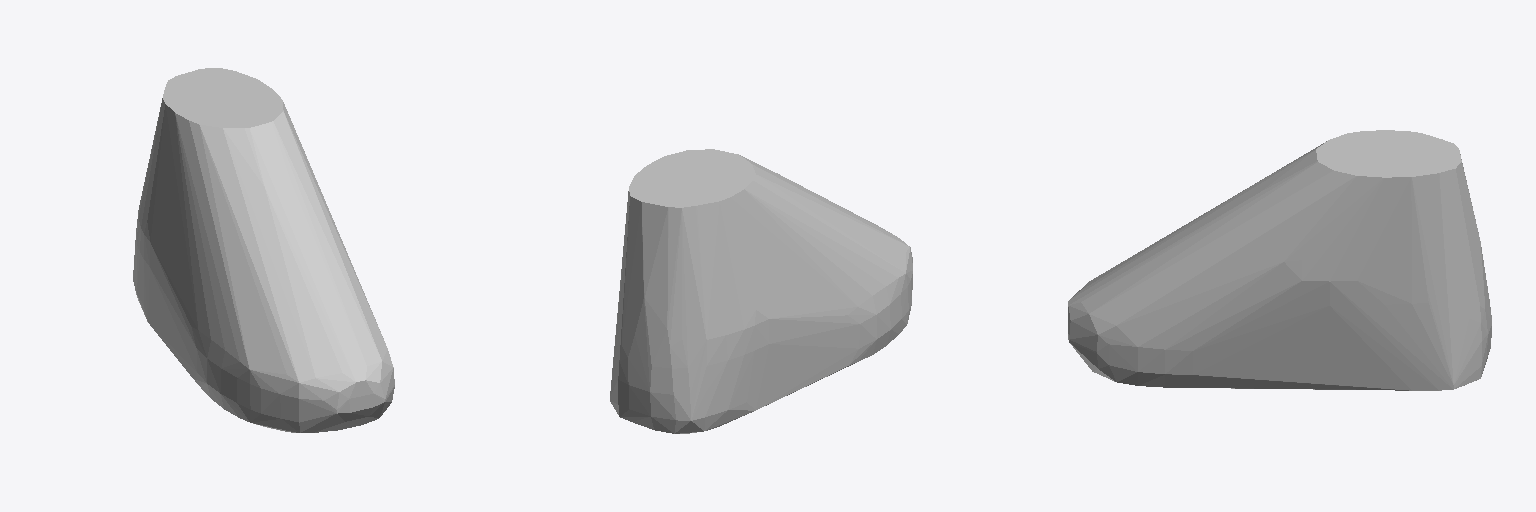
File: woman_collision_4.obj
3 renders of one model, left to right at view 1: azimuth 30°, elevation 25°; view 2: azimuth 150°, elevation 25°; view 3: azimuth 270°, elevation 25°, orthographic.
Bounding box in the file's own units: 12.24 × 16.53 × 28.42.